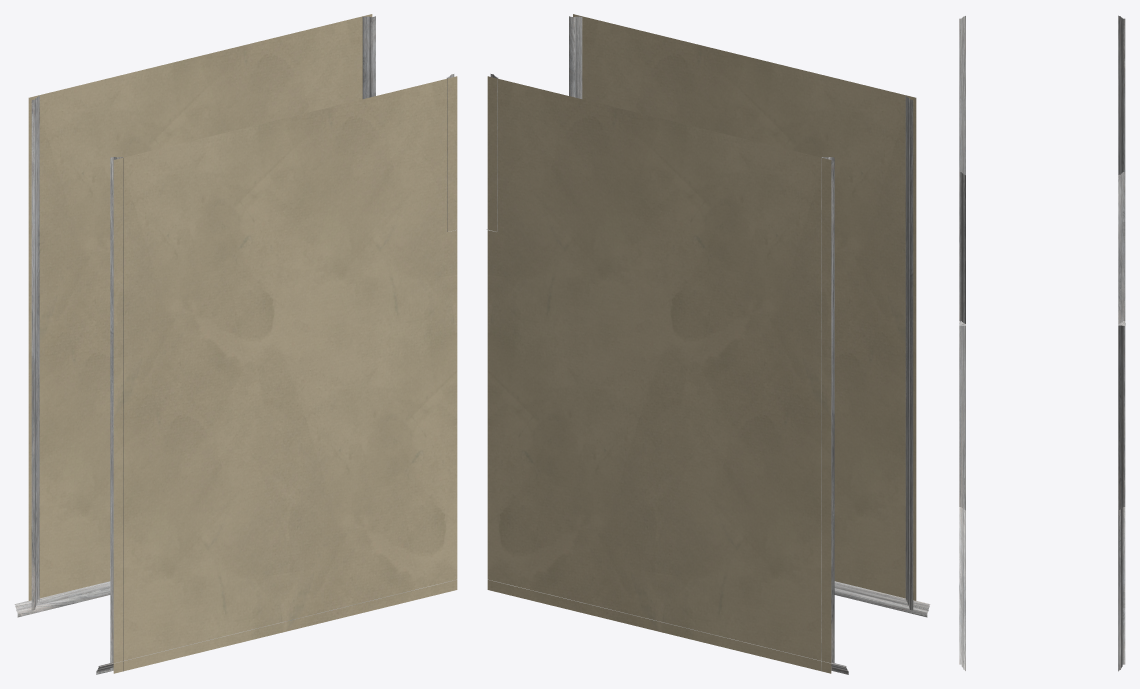
File: HallwayUpWall.fbx
3 views of the same model, side by side, from view 1: azimuth 30°, elevation 25°; view 2: azimuth 150°, elevation 25°; view 3: azimuth 270°, elevation 25° (orthographic). The views are drawn at different scales.
Visible parts, largest first — view 1: Cube.018; view 2: Cube.018; view 3: Cube.018.
Boxes of the visible parts, left/top/right/bottom form: Cube.018: left=14, top=14, right=457, bottom=674; Cube.018: left=486, top=14, right=930, bottom=674; Cube.018: left=959, top=15, right=1125, bottom=671.
Size of the model in its own units: 146 by 200 by 60.64.
